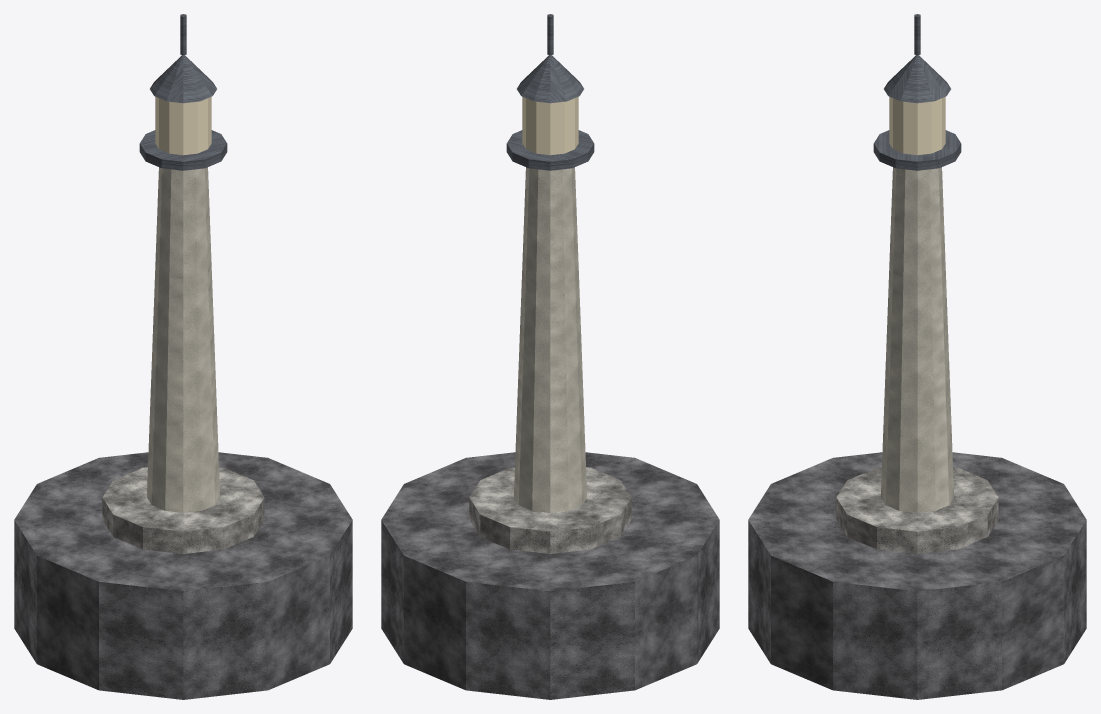
The model's file is harbour_lighthouse.fbx.
3 renders of one model, left to right at view 1: azimuth 30°, elevation 25°; view 2: azimuth 150°, elevation 25°; view 3: azimuth 270°, elevation 25°, orthographic.
Parts seen in each view (by area): view 1: harbour_lighthouse; view 2: harbour_lighthouse; view 3: harbour_lighthouse.
Boxes of the visible parts, x1,y1,x2,y2 form: harbour_lighthouse: (14,14,352,699); harbour_lighthouse: (381,14,719,699); harbour_lighthouse: (748,14,1086,699).
Size of the model in its own units: 480 by 959 by 480.
